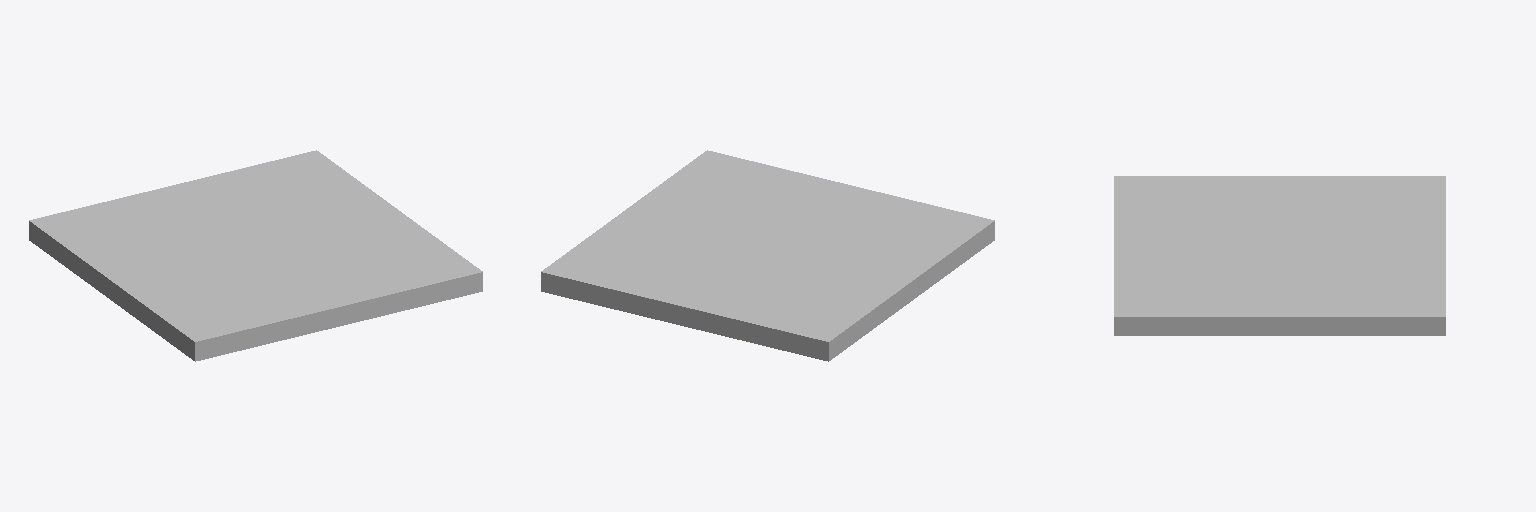
File: paving-brick.obj
3 renders of one model, left to right at view 1: azimuth 30°, elevation 25°; view 2: azimuth 150°, elevation 25°; view 3: azimuth 270°, elevation 25°, orthographic.
Parts seen in each view (by area): view 1: Mesh27 brick_single12 brick_square3 Brick_paving_pinwheel_patter, Mesh21 brick_single9 brick_square3 Brick_paving_pinwheel_pattern, Mesh31 brick_single13 brick_square4 Brick_paving_pinwheel_patter, Mesh1 brick_single1 brick_square1 Brick_paving_pinwheel_pattern1, Mesh11 brick_single5 brick_square2 Brick_paving_pinwheel_pattern, Mesh67 brick_single28 brick_square7 Brick_paving_pinwheel_patter, Mesh117 brick_single48 brick_square12 Brick_paving_pinwheel_patt, Mesh137 brick_single56 brick_square14 Brick_paving_pinwheel_patt, Mesh17 brick_single8 brick_square2 Brick_paving_pinwheel_pattern, Mesh7 brick_single4 brick_square1 Brick_paving_pinwheel_pattern1, Mesh37 brick_single16 brick_square4 Brick_paving_pinwheel_patter, Mesh115 brick_single47 brick_square12 Brick_paving_pinwheel_patt (+28 smaller); view 2: Mesh135 brick_single55 brick_square14 Brick_paving_pinwheel_patt, Mesh125 brick_single51 brick_square13 Brick_paving_pinwheel_patt, Mesh145 brick_single59 brick_square15 Brick_paving_pinwheel_patt, Mesh155 brick_single63 brick_square16 Brick_paving_pinwheel_patt, Mesh67 brick_single28 brick_square7 Brick_paving_pinwheel_patter, Mesh117 brick_single48 brick_square12 Brick_paving_pinwheel_patt, Mesh27 brick_single12 brick_square3 Brick_paving_pinwheel_patter, Mesh137 brick_single56 brick_square14 Brick_paving_pinwheel_patt, Mesh143 brick_single58 brick_square15 Brick_paving_pinwheel_patt, Mesh153 brick_single62 brick_square16 Brick_paving_pinwheel_patt, Mesh123 brick_single50 brick_square13 Brick_paving_pinwheel_patt, Mesh133 brick_single54 brick_square14 Brick_paving_pinwheel_patt (+28 smaller); view 3: Mesh13 brick_single6 brick_square2 Brick_paving_pinwheel_pattern, Mesh53 brick_single22 brick_square6 Brick_paving_pinwheel_patter, Mesh103 brick_single42 brick_square11 Brick_paving_pinwheel_patt, Mesh123 brick_single50 brick_square13 Brick_paving_pinwheel_patt, Mesh51 brick_single21 brick_square6 Brick_paving_pinwheel_patter, Mesh101 brick_single41 brick_square11 Brick_paving_pinwheel_patt, Mesh121 brick_single49 brick_square13 Brick_paving_pinwheel_patt, Mesh11 brick_single5 brick_square2 Brick_paving_pinwheel_pattern, Mesh5 brick_single3 brick_square1 Brick_paving_pinwheel_pattern1, Mesh15 brick_single7 brick_square2 Brick_paving_pinwheel_pattern, Mesh23 brick_single10 brick_square3 Brick_paving_pinwheel_patter, Mesh33 brick_single14 brick_square4 Brick_paving_pinwheel_patter (+28 smaller).
Part boxes in pixels (x1,y1,x2,y2): Mesh27 brick_single12 brick_square3 Brick_paving_pinwheel_patter: (167, 316, 218, 361); Mesh21 brick_single9 brick_square3 Brick_paving_pinwheel_pattern: (206, 315, 266, 355); Mesh31 brick_single13 brick_square4 Brick_paving_pinwheel_patter: (278, 297, 338, 337); Mesh1 brick_single1 brick_square1 Brick_paving_pinwheel_pattern1: (350, 280, 410, 320); Mesh11 brick_single5 brick_square2 Brick_paving_pinwheel_pattern: (422, 262, 482, 302); Mesh67 brick_single28 brick_square7 Brick_paving_pinwheel_patter: (126, 286, 176, 330); Mesh117 brick_single48 brick_square12 Brick_paving_pinwheel_patt: (84, 255, 135, 300); Mesh137 brick_single56 brick_square14 Brick_paving_pinwheel_patt: (43, 225, 92, 269); Mesh17 brick_single8 brick_square2 Brick_paving_pinwheel_pattern: (384, 263, 434, 308); Mesh7 brick_single4 brick_square1 Brick_paving_pinwheel_pattern1: (312, 281, 362, 326); Mesh37 brick_single16 brick_square4 Brick_paving_pinwheel_patter: (240, 299, 290, 343); Mesh115 brick_single47 brick_square12 Brick_paving_pinwheel_patt: (70, 239, 131, 279); Mesh135 brick_single55 brick_square14 Brick_paving_pinwheel_patt: (781, 321, 842, 361); Mesh125 brick_single51 brick_square13 Brick_paving_pinwheel_patt: (565, 268, 626, 308); Mesh145 brick_single59 brick_square15 Brick_paving_pinwheel_patt: (637, 285, 697, 326); Mesh155 brick_single63 brick_square16 Brick_paving_pinwheel_patt: (709, 303, 770, 343); Mesh67 brick_single28 brick_square7 Brick_paving_pinwheel_patter: (902, 245, 953, 289); Mesh117 brick_single48 brick_square12 Brick_paving_pinwheel_patt: (861, 276, 911, 320); Mesh27 brick_single12 brick_square3 Brick_paving_pinwheel_patter: (944, 215, 994, 259); Mesh137 brick_single56 brick_square14 Brick_paving_pinwheel_patt: (820, 306, 869, 350); Mesh143 brick_single58 brick_square15 Brick_paving_pinwheel_patt: (613, 269, 663, 314); Mesh153 brick_single62 brick_square16 Brick_paving_pinwheel_patt: (685, 287, 735, 331); Mesh123 brick_single50 brick_square13 Brick_paving_pinwheel_patt: (541, 252, 591, 296); Mesh133 brick_single54 brick_square14 Brick_paving_pinwheel_patt: (757, 304, 807, 349); Mesh13 brick_single6 brick_square2 Brick_paving_pinwheel_pattern: (1141, 305, 1196, 335); Mesh53 brick_single22 brick_square6 Brick_paving_pinwheel_patter: (1225, 305, 1279, 335); Mesh103 brick_single42 brick_square11 Brick_paving_pinwheel_patt: (1308, 305, 1362, 335); Mesh123 brick_single50 brick_square13 Brick_paving_pinwheel_patt: (1391, 305, 1445, 335); Mesh51 brick_single21 brick_square6 Brick_paving_pinwheel_patter: (1197, 293, 1224, 335); Mesh101 brick_single41 brick_square11 Brick_paving_pinwheel_patt: (1280, 293, 1307, 335); Mesh121 brick_single49 brick_square13 Brick_paving_pinwheel_patt: (1363, 293, 1390, 335); Mesh11 brick_single5 brick_square2 Brick_paving_pinwheel_pattern: (1114, 293, 1140, 335); Mesh5 brick_single3 brick_square1 Brick_paving_pinwheel_pattern1: (1169, 246, 1196, 269); Mesh15 brick_single7 brick_square2 Brick_paving_pinwheel_pattern: (1169, 281, 1196, 304); Mesh23 brick_single10 brick_square3 Brick_paving_pinwheel_patter: (1141, 199, 1196, 210); Mesh33 brick_single14 brick_square4 Brick_paving_pinwheel_patter: (1141, 234, 1196, 245).
Bounding box in the file's own units: 3320 × 215 × 3321.